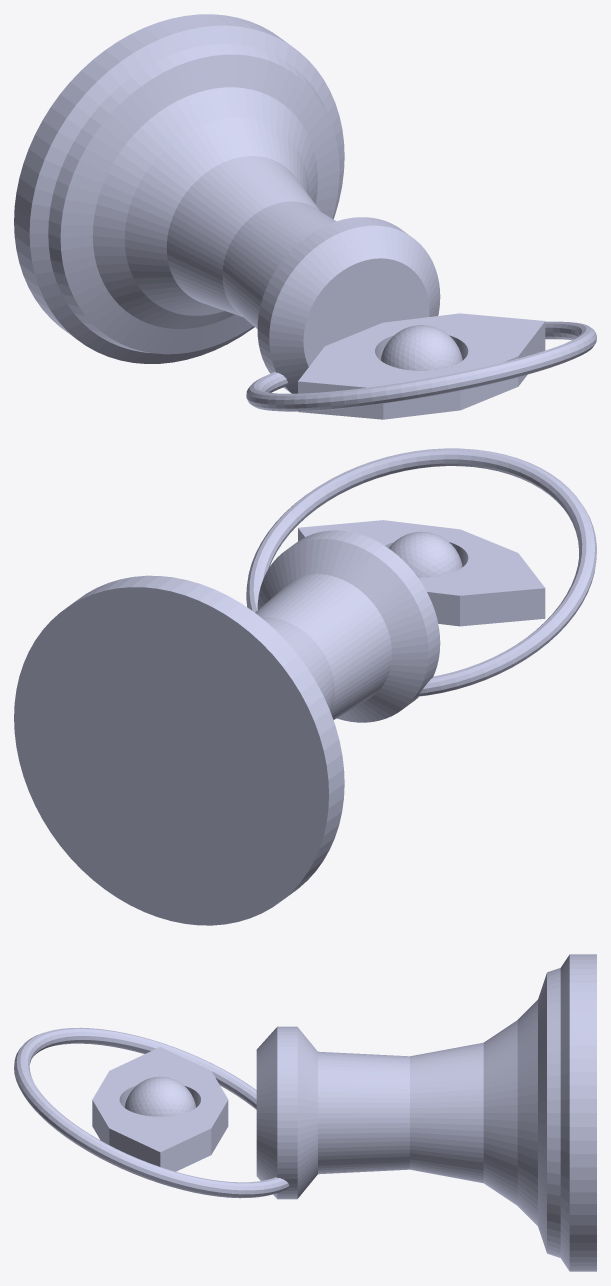
File: divyadrishti_chandra.glb
The picture shows the model from 3 angles, top to bottom: view 1: azimuth 30°, elevation 25°; view 2: azimuth 150°, elevation 25°; view 3: azimuth 270°, elevation 25°; orthographic projection. The views are drawn at different scales.
Visible parts, largest first — view 1: geometry_0; view 2: geometry_0; view 3: geometry_0.
Boxes of the visible parts, left/top/right/bottom form: geometry_0: left=14, top=14, right=596, bottom=419; geometry_0: left=14, top=448, right=596, bottom=925; geometry_0: left=14, top=954, right=596, bottom=1271.
Size of the model in its own units: 0.028 by 0.028 by 0.0514.
